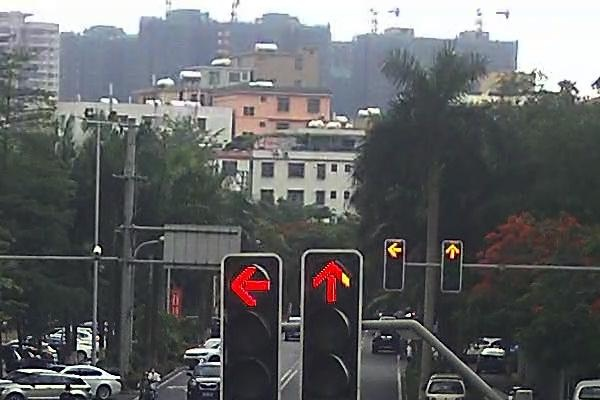redleft: (229, 263, 272, 309), (386, 242, 403, 260)
redstraight: (310, 258, 354, 304), (444, 243, 461, 260)
